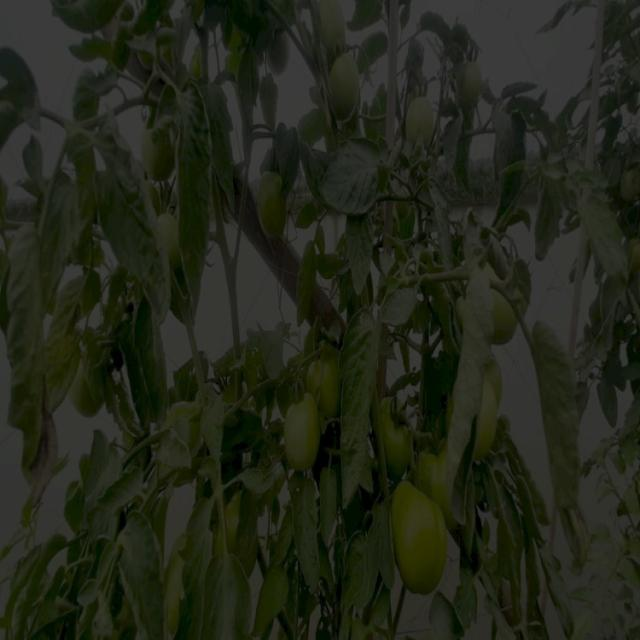tomato: (387, 474, 459, 597), (322, 51, 371, 118), (136, 119, 180, 189), (280, 391, 323, 460), (402, 83, 441, 157), (255, 168, 294, 238), (311, 350, 346, 423), (479, 285, 519, 345), (379, 402, 414, 466), (456, 53, 489, 115), (152, 207, 186, 263), (314, 1, 354, 47), (75, 372, 107, 422)
